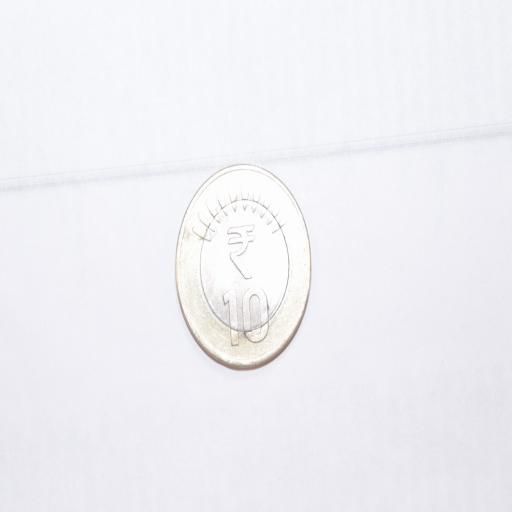rupee10: (175, 166, 311, 367)
